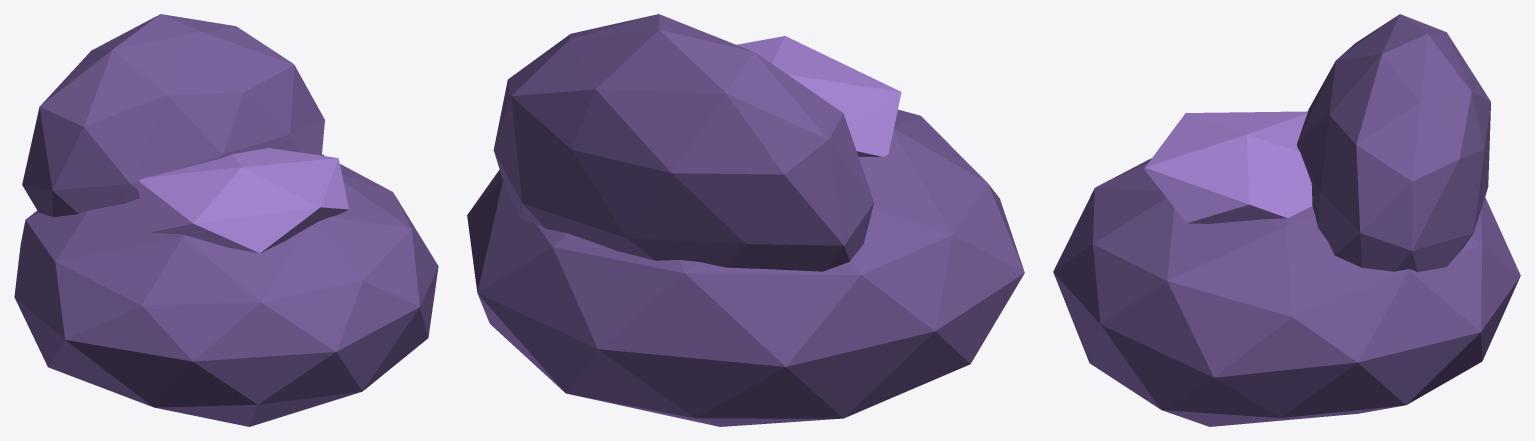
The model's file is beanbag.glb.
The picture shows the model from 3 angles, left to right: view 1: azimuth 30°, elevation 25°; view 2: azimuth 150°, elevation 25°; view 3: azimuth 270°, elevation 25°; orthographic projection. The views are drawn at different scales.
Visible parts, largest first — view 1: beanbag; view 2: beanbag; view 3: beanbag.
Boxes of the visible parts, x1,y1,x2,y2 form: beanbag: (14,14,438,426); beanbag: (467,14,1024,426); beanbag: (1053,14,1520,426).
Bounding box in the file's own units: 0.7643 × 0.6405 × 0.7617.
